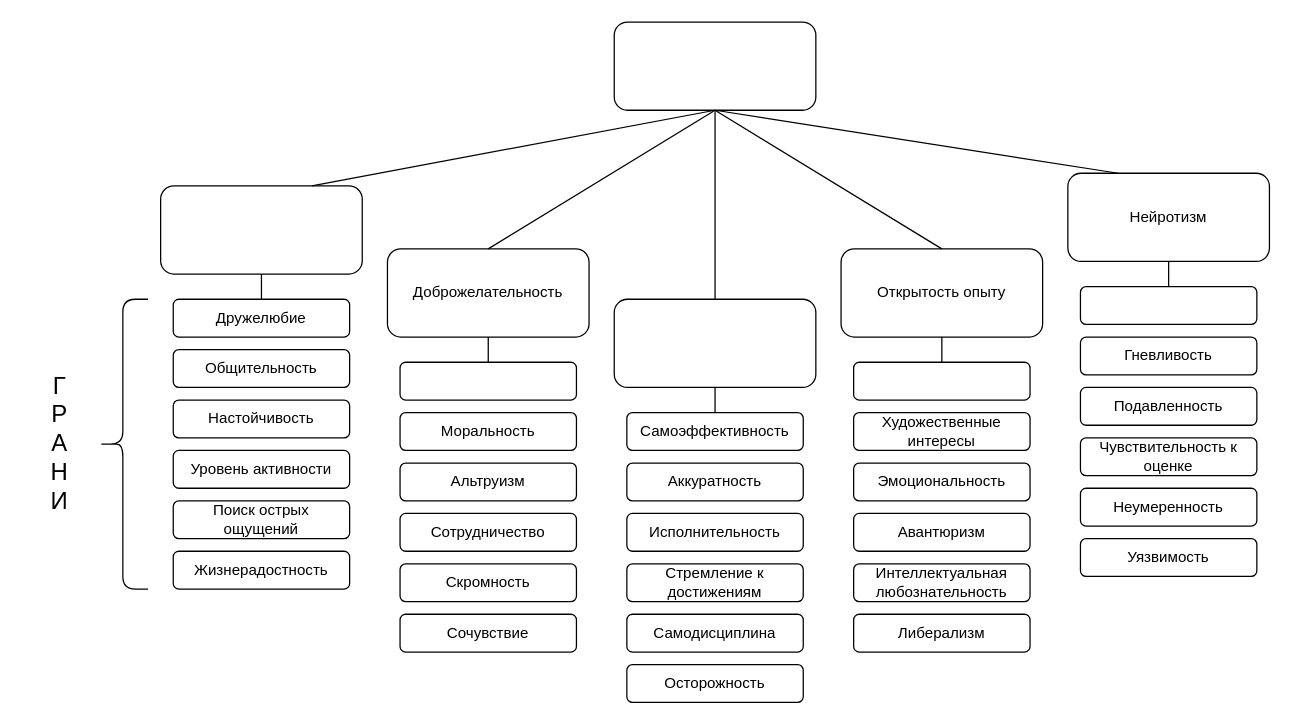
The diagram is 1292 pixels wide and 725 high, and some of its shapes have lost their labels. Each missing label, with the box of its shape:
Большая пятёрка черт: (613, 21, 816, 110)
Воображение: (852, 361, 1030, 400)
Добросовестность: (613, 298, 816, 387)
Доверчивость: (399, 361, 576, 400)
Тревожность: (1079, 285, 1257, 324)
Экстраверсия: (159, 185, 362, 274)
